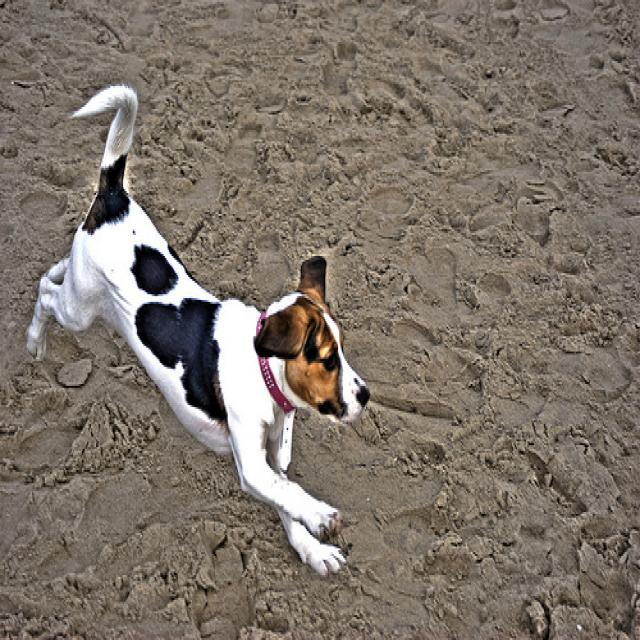dog-beagle: (18, 76, 375, 588)
